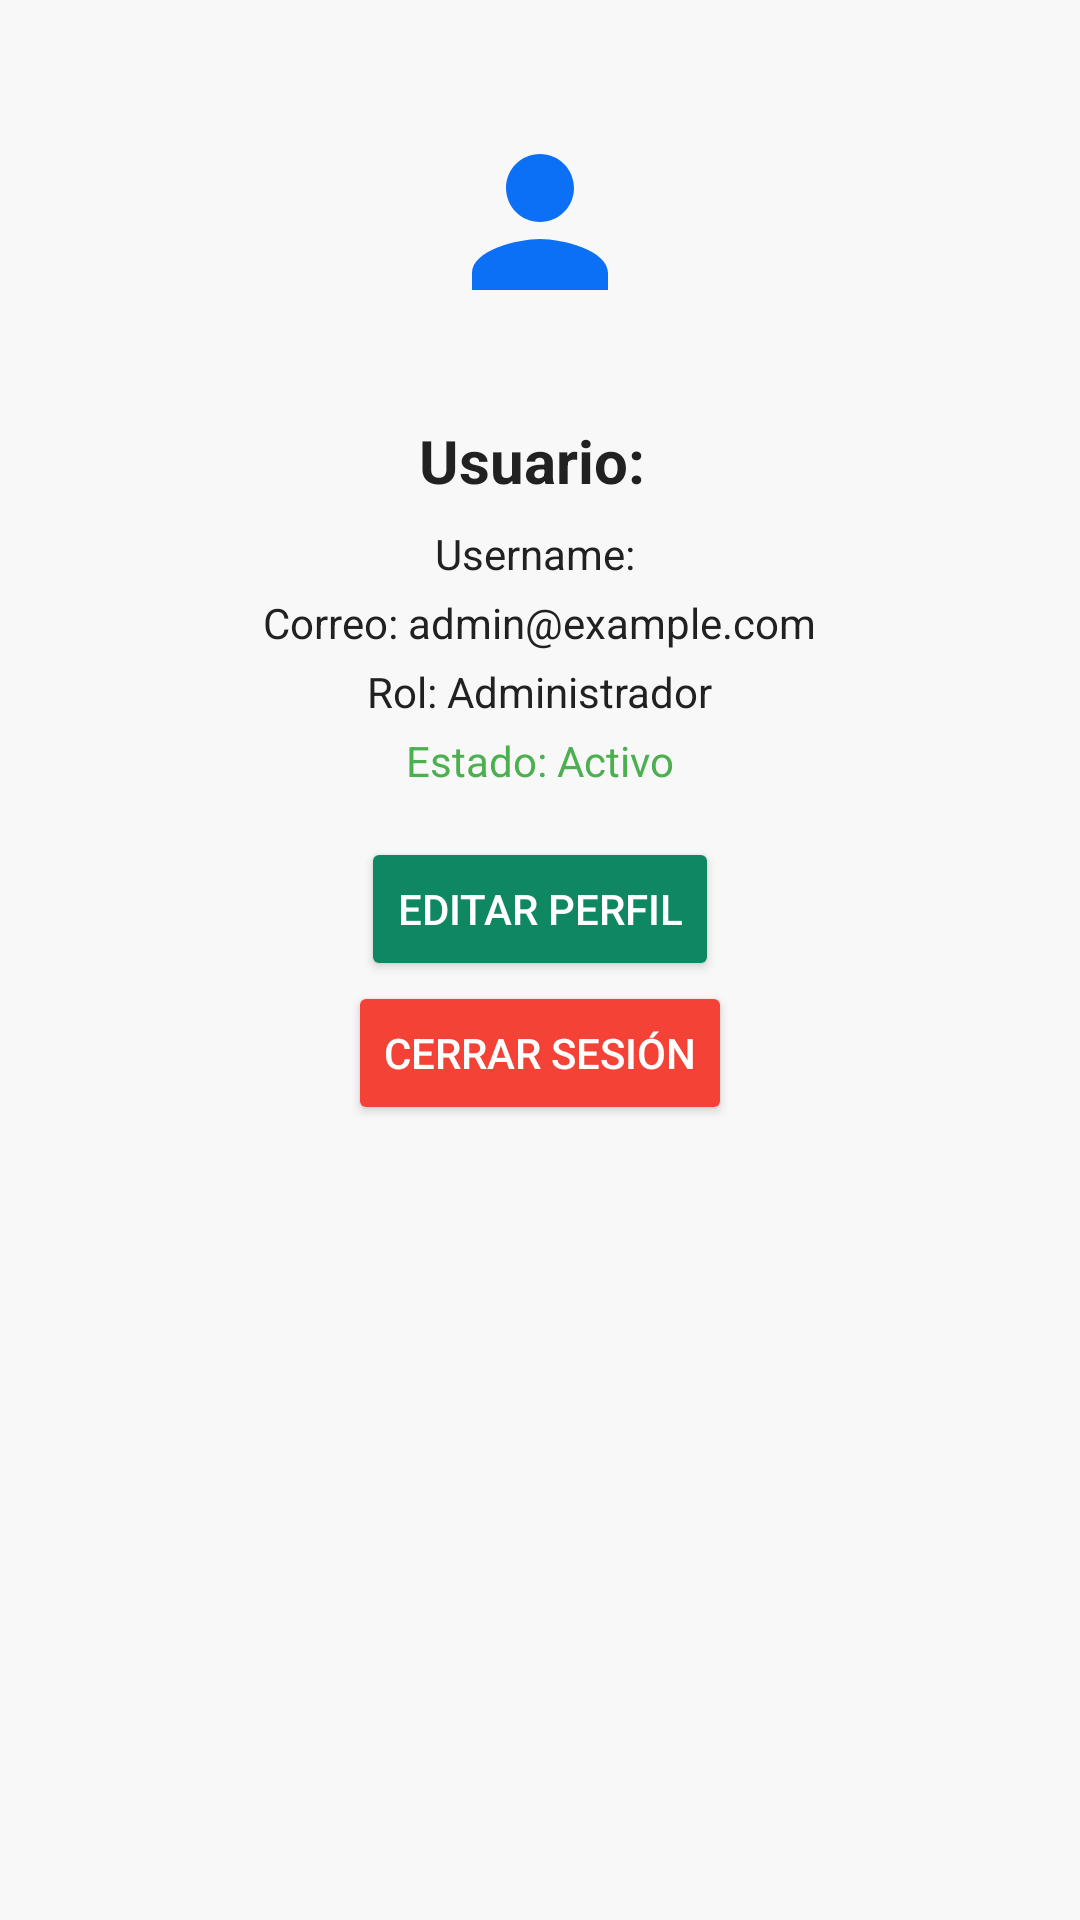

Where to tap for icons on this 1080px x 1920px app screen, as [x,y]:
profile: [540,222]
